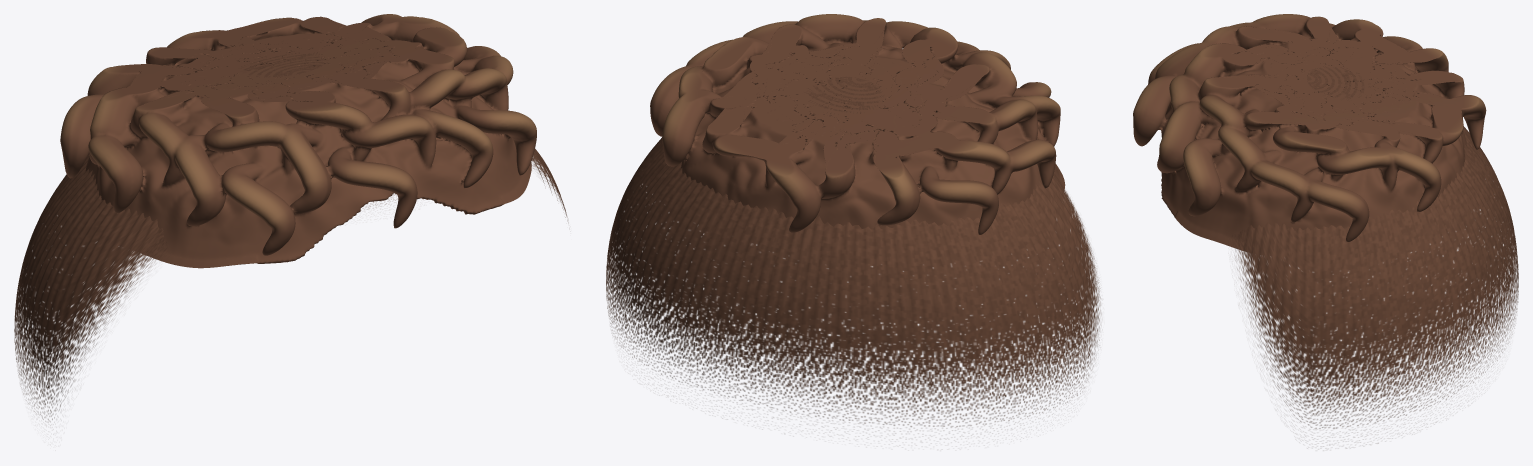
File: Masculine-curly-top-bucket256-hair-ombre.glb
3 views of the same model, side by side, from view 1: azimuth 30°, elevation 25°; view 2: azimuth 150°, elevation 25°; view 3: azimuth 270°, elevation 25° (orthographic). The views are drawn at different scales.
Visible parts, largest first — view 1: 226 hair / Hair252 / sculpted curl groups, 226 hair / Hair256 / selected B sides; view 2: 226 hair / Hair256 / selected B sides, 226 hair / Hair252 / sculpted curl groups; view 3: 226 hair / Hair252 / sculpted curl groups, 226 hair / Hair256 / selected B sides.
Boxes of the visible parts, x1,y1,x2,y2 form: 226 hair / Hair252 / sculpted curl groups: (60, 14, 536, 268); 226 hair / Hair256 / selected B sides: (14, 52, 568, 421); 226 hair / Hair256 / selected B sides: (606, 76, 1101, 433); 226 hair / Hair252 / sculpted curl groups: (650, 14, 1065, 234); 226 hair / Hair252 / sculpted curl groups: (1133, 14, 1486, 252); 226 hair / Hair256 / selected B sides: (1234, 66, 1518, 448).
Bounding box in the file's own units: 0.972 × 0.6147 × 0.7498.
Materials: 2 (1 with a texture image).
